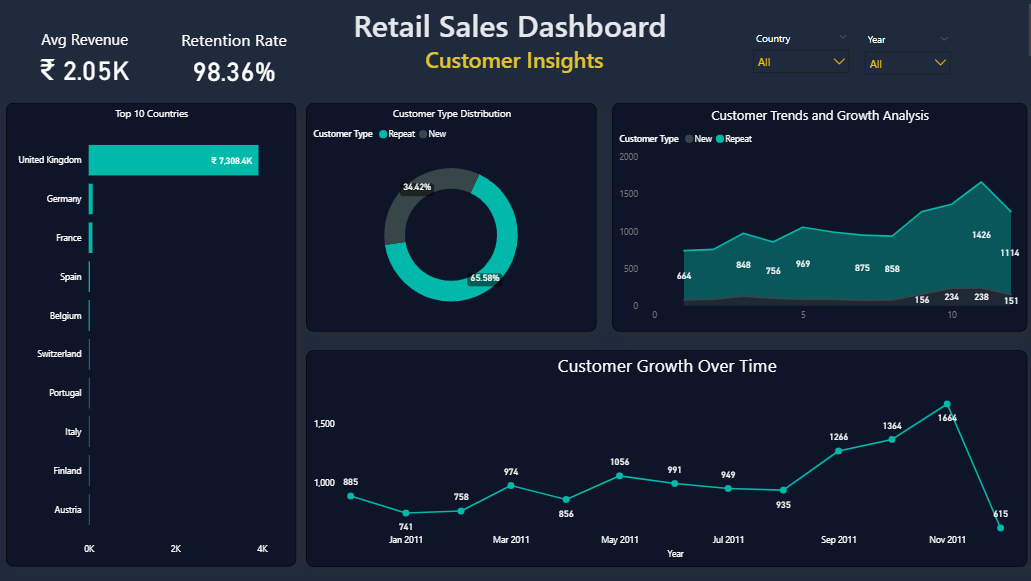

What the dashboard file says about the page in this screenshot:
{"tool":"powerbi","page":{"name":"Customer Insights","canvas":[1280,720],"ordinal":1},"visuals":[{"type":"textbox","box":[0,0,1279.7,98.4],"z":0},{"type":"clusteredBarChart","title":"Top 10 Countries","fields":{"Category":["cleaned_retail.Country"],"Y":["Count(cleaned_retail.CustomerID)"]},"box":[12.5,126.6,356.2,568.8],"z":1},{"type":"donutChart","title":"Customer Type Distribution","fields":{"Category":["cleaned_retail.Customer Type"],"Y":["Count(cleaned_retail.CustomerID)"]},"box":[380.7,126.3,356.1,280.7],"z":3},{"type":"lineChart","title":"Customer Growth Over Time","fields":{"Y":["Count(cleaned_retail.CustomerID)"],"Category":["cleaned_retail.InvoiceDate.Variation.Date Hierarchy.Year","cleaned_retail.InvoiceDate.Variation.Date Hierarchy.Month","cleaned_retail.InvoiceDate.Variation.Date Hierarchy.Day"]},"box":[381.2,429.7,884.4,265.6],"z":4},{"type":"card","title":"Avg Revenue","fields":{"Values":["cleaned_retail.Avg Revenue per Customer"]},"box":[12.3,35.1,193,73.7],"z":5},{"type":"slicer","fields":{"Values":["cleaned_retail.Country"]},"box":[918.8,32.8,137.5,65.6],"z":6},{"type":"slicer","fields":{"Values":["cleaned_retail.Year"]},"box":[1056.2,34.4,125,64.1],"z":7},{"type":"card","title":"Retention Rate","fields":{"Values":["cleaned_retail.Retention Rate"]},"box":[191.2,35.1,201.8,73.7],"z":9},{"type":"stackedAreaChart","title":"Customer Trends and Growth Analysis","fields":{"Category":["cleaned_retail.Month"],"Y":["cleaned_retail.Total Customers"],"Series":["cleaned_retail.Customer Type"]},"box":[756.1,126.3,508.8,280.7],"z":10}]}

Visuals, with their boxes in screenshot pixels (x1, y1, x2, y2), scaled from the page's 1280x720 canvas onto the 1031x581 screenshot:
textbox: pyautogui.locateOnScreen(0, 0, 1030, 79)
"Top 10 Countries" clusteredBarChart: pyautogui.locateOnScreen(10, 102, 297, 561)
"Customer Type Distribution" donutChart: pyautogui.locateOnScreen(307, 102, 593, 328)
"Customer Growth Over Time" lineChart: pyautogui.locateOnScreen(307, 347, 1019, 561)
"Avg Revenue" card: pyautogui.locateOnScreen(10, 28, 165, 88)
slicer - cleaned_retail.Country: pyautogui.locateOnScreen(740, 26, 851, 79)
slicer - cleaned_retail.Year: pyautogui.locateOnScreen(851, 28, 951, 79)
"Retention Rate" card: pyautogui.locateOnScreen(154, 28, 317, 88)
"Customer Trends and Growth Analysis" stackedAreaChart: pyautogui.locateOnScreen(609, 102, 1019, 328)
